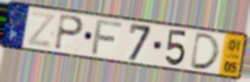5: (164, 29, 188, 67)
7: (127, 21, 153, 62)
D: (188, 31, 222, 71)
F: (90, 18, 124, 56)
P: (53, 13, 86, 53)
Z: (26, 10, 58, 50)
